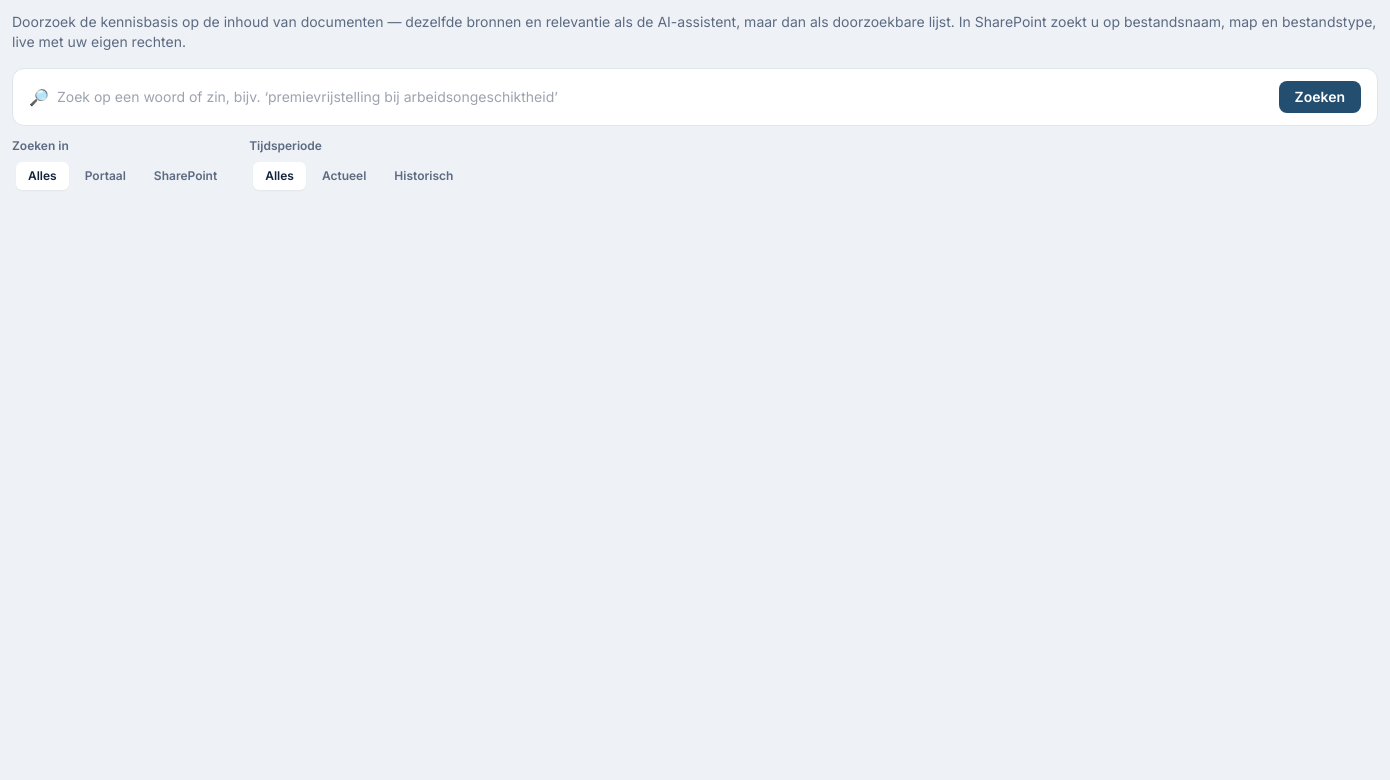
Test: ZoekenPaneel — SharePoint als zoekbron (#463) › SharePoint-timeout: begrijpelijke gedeeltelijke-foutmelding, portaalresultaten blijven staan
This screenshot has width=1390, height=780.
Expected: the element named "Zoekbron" is shown, left=12, top=158, right=233, bottom=194
Type "premie" into the field with placeholder "Zoek op een woord of zin" at (664, 97), box left=57, top=87, right=1271, bottom=107
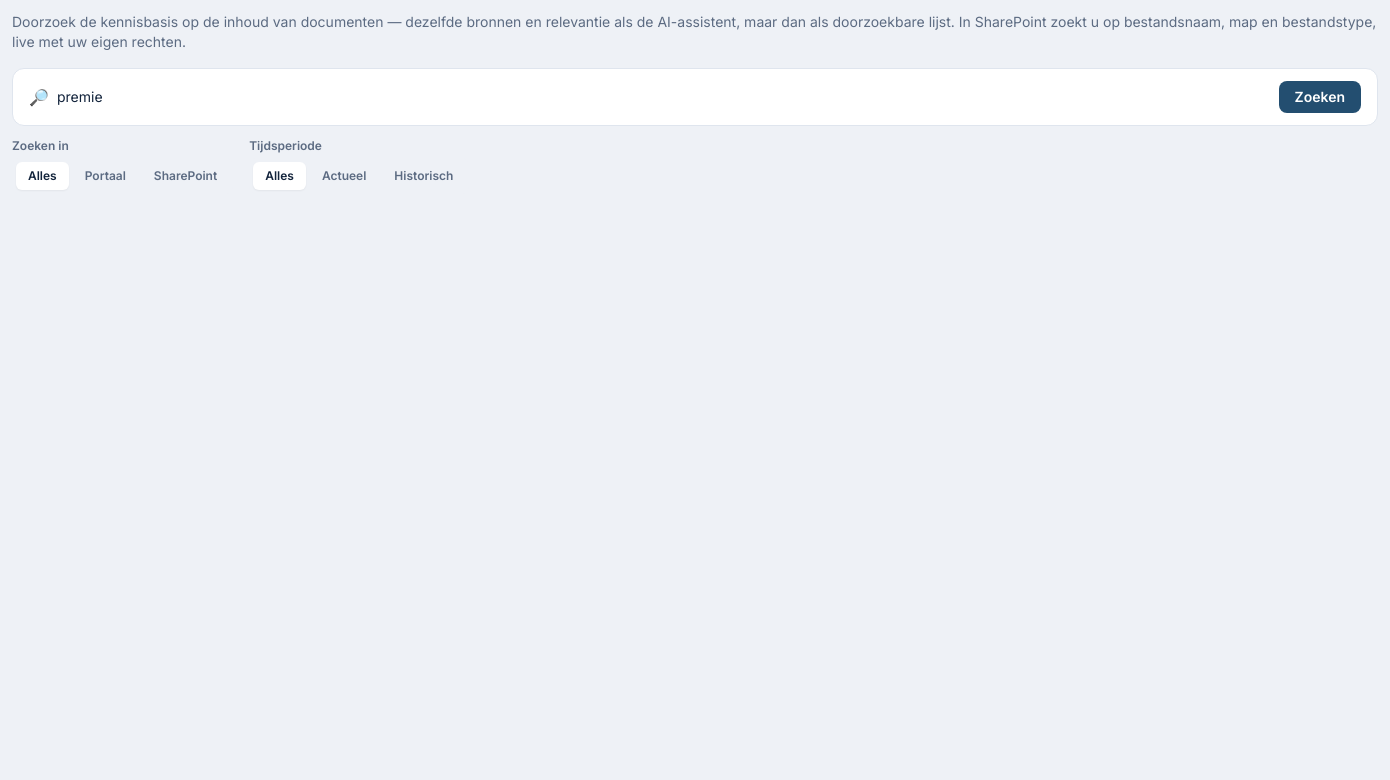
Click the button "Zoeken" at (1320, 97), box left=1279, top=81, right=1361, bottom=113
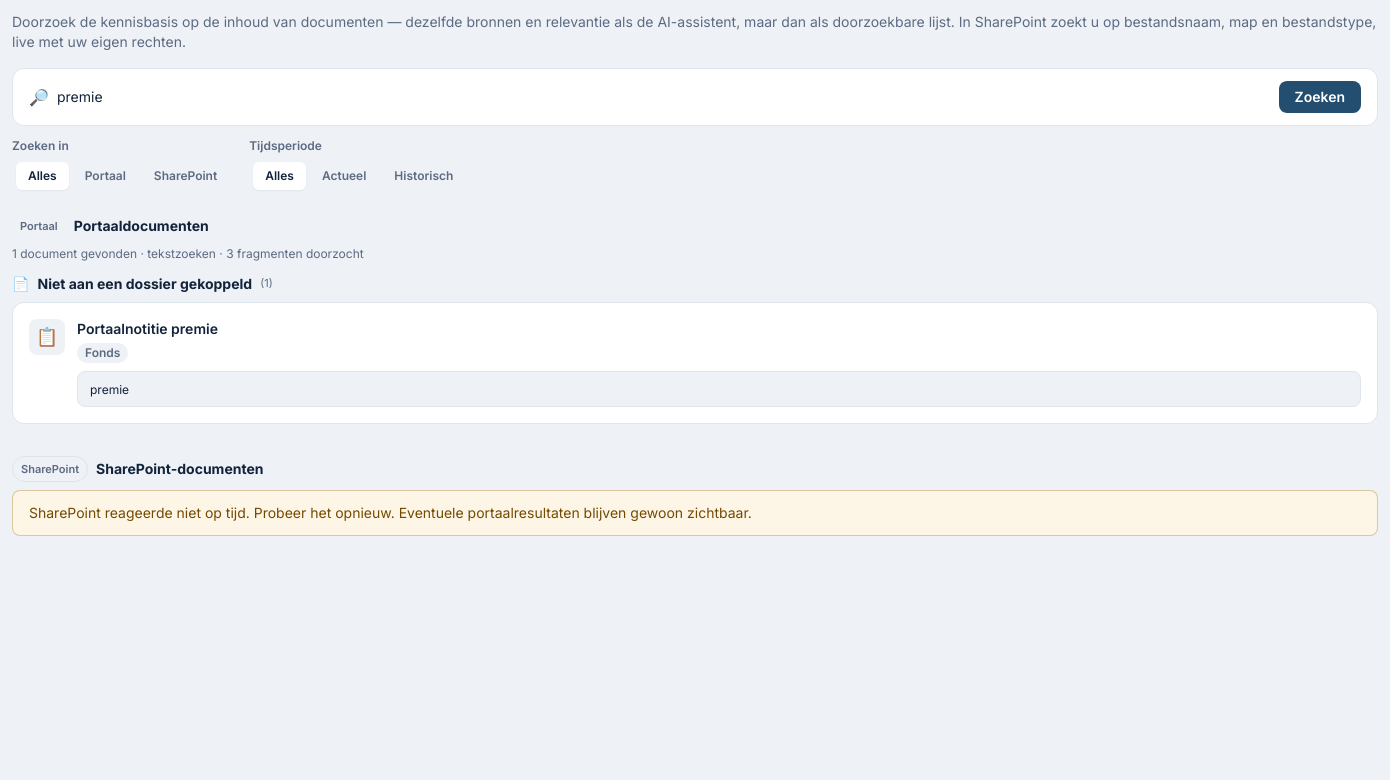
Expected: the text "Portaalnotitie premie" is shown, left=77, top=320, right=218, bottom=337
